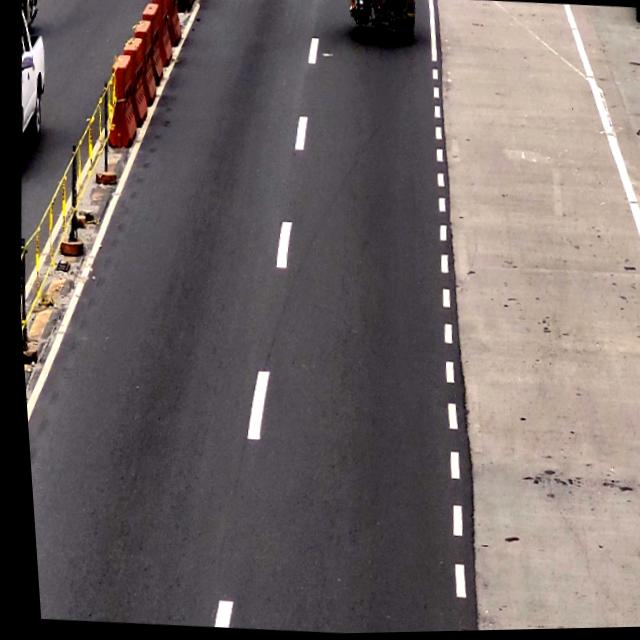Tricycle: (347, 0, 419, 42)
